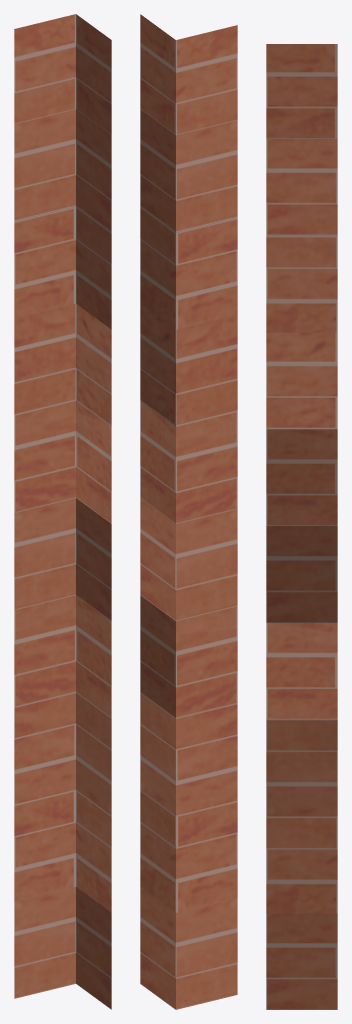
File: MT_OS_ClosedCorner_Small.fbx
3 renders of one model, left to right at view 1: azimuth 30°, elevation 25°; view 2: azimuth 210°, elevation 25°; view 3: azimuth 270°, elevation 25°, orthographic.
Parts seen in each view (by area): view 1: ClosedCorner.003; view 2: ClosedCorner.003; view 3: ClosedCorner.003.
Boxes of the visible parts, left/top/right/bottom form: ClosedCorner.003: left=14, top=14, right=111, bottom=1009; ClosedCorner.003: left=140, top=14, right=237, bottom=1009; ClosedCorner.003: left=266, top=44, right=337, bottom=1009.
Bounding box in the file's own units: 20 × 299 × 20.
